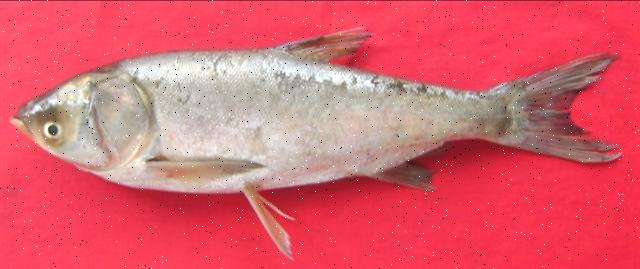Mulut: (5, 88, 45, 160)
Sirip Anal: (348, 126, 457, 194)
Sirip Dada: (146, 149, 268, 195)
Sirip Ekor: (508, 45, 626, 173)
Sirip Perut: (238, 179, 304, 261)
Sirip Punggung: (281, 21, 379, 74)
